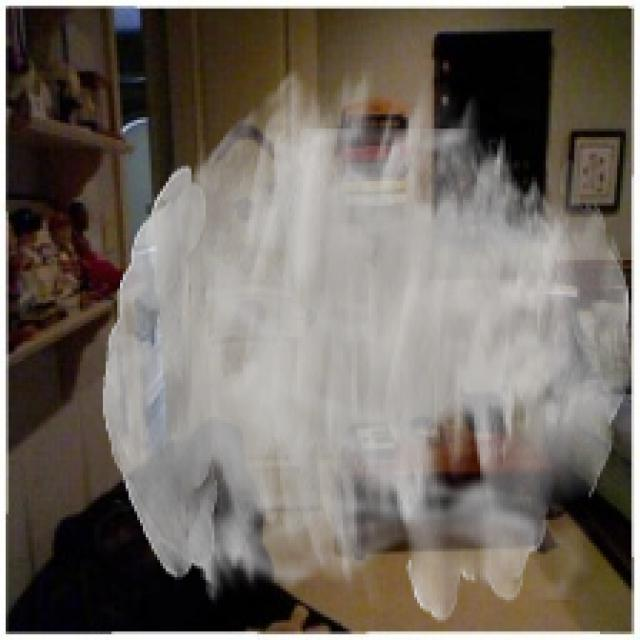smoke: (103, 63, 631, 623)
